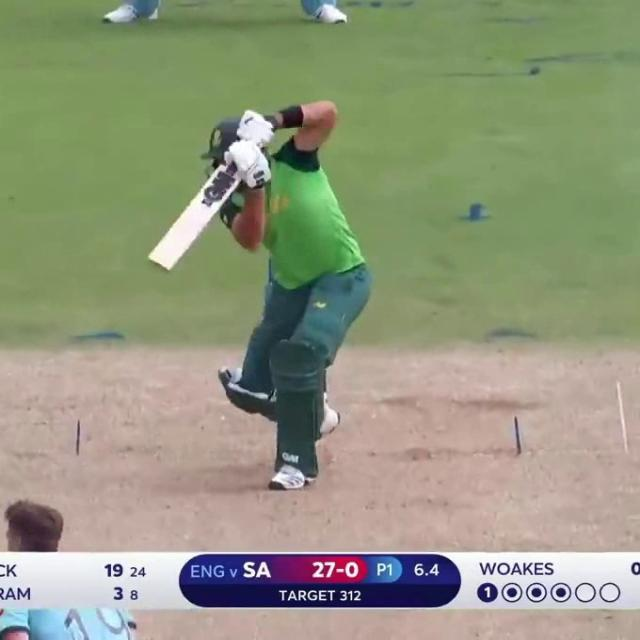bat: (142, 162, 246, 272)
toe: (144, 258, 174, 275)
